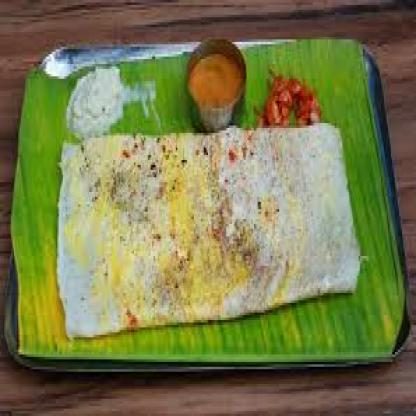dosa: (57, 125, 360, 340)
